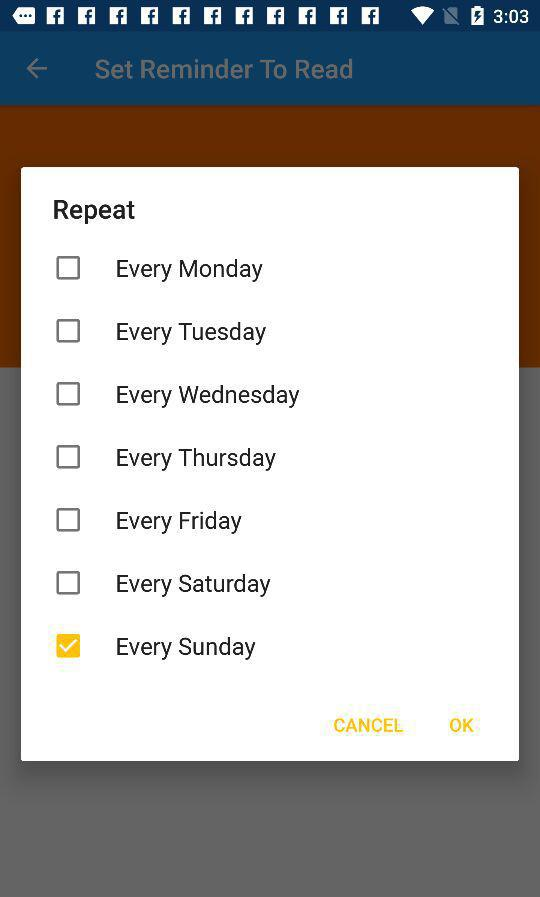CheckedTextView: (56, 382, 300, 409), (56, 444, 277, 472), (56, 570, 271, 598), (56, 256, 264, 284), (56, 319, 267, 346), (56, 633, 256, 661), (56, 507, 243, 535)
Icon: (27, 58, 49, 80)
Modal: (21, 167, 520, 762)
Text: (95, 58, 353, 81), (116, 384, 300, 409), (117, 447, 277, 472), (116, 573, 271, 598), (117, 321, 267, 346), (117, 259, 264, 284), (116, 636, 256, 661), (117, 510, 243, 535), (54, 200, 138, 226), (333, 717, 405, 734), (449, 717, 476, 734)
UpperTaskBar: (1, 1, 540, 33)
